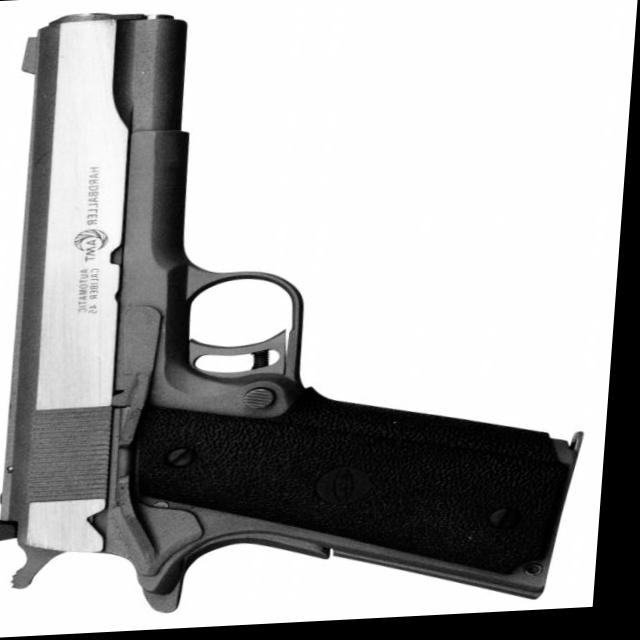handgun: (0, 0, 617, 627)
